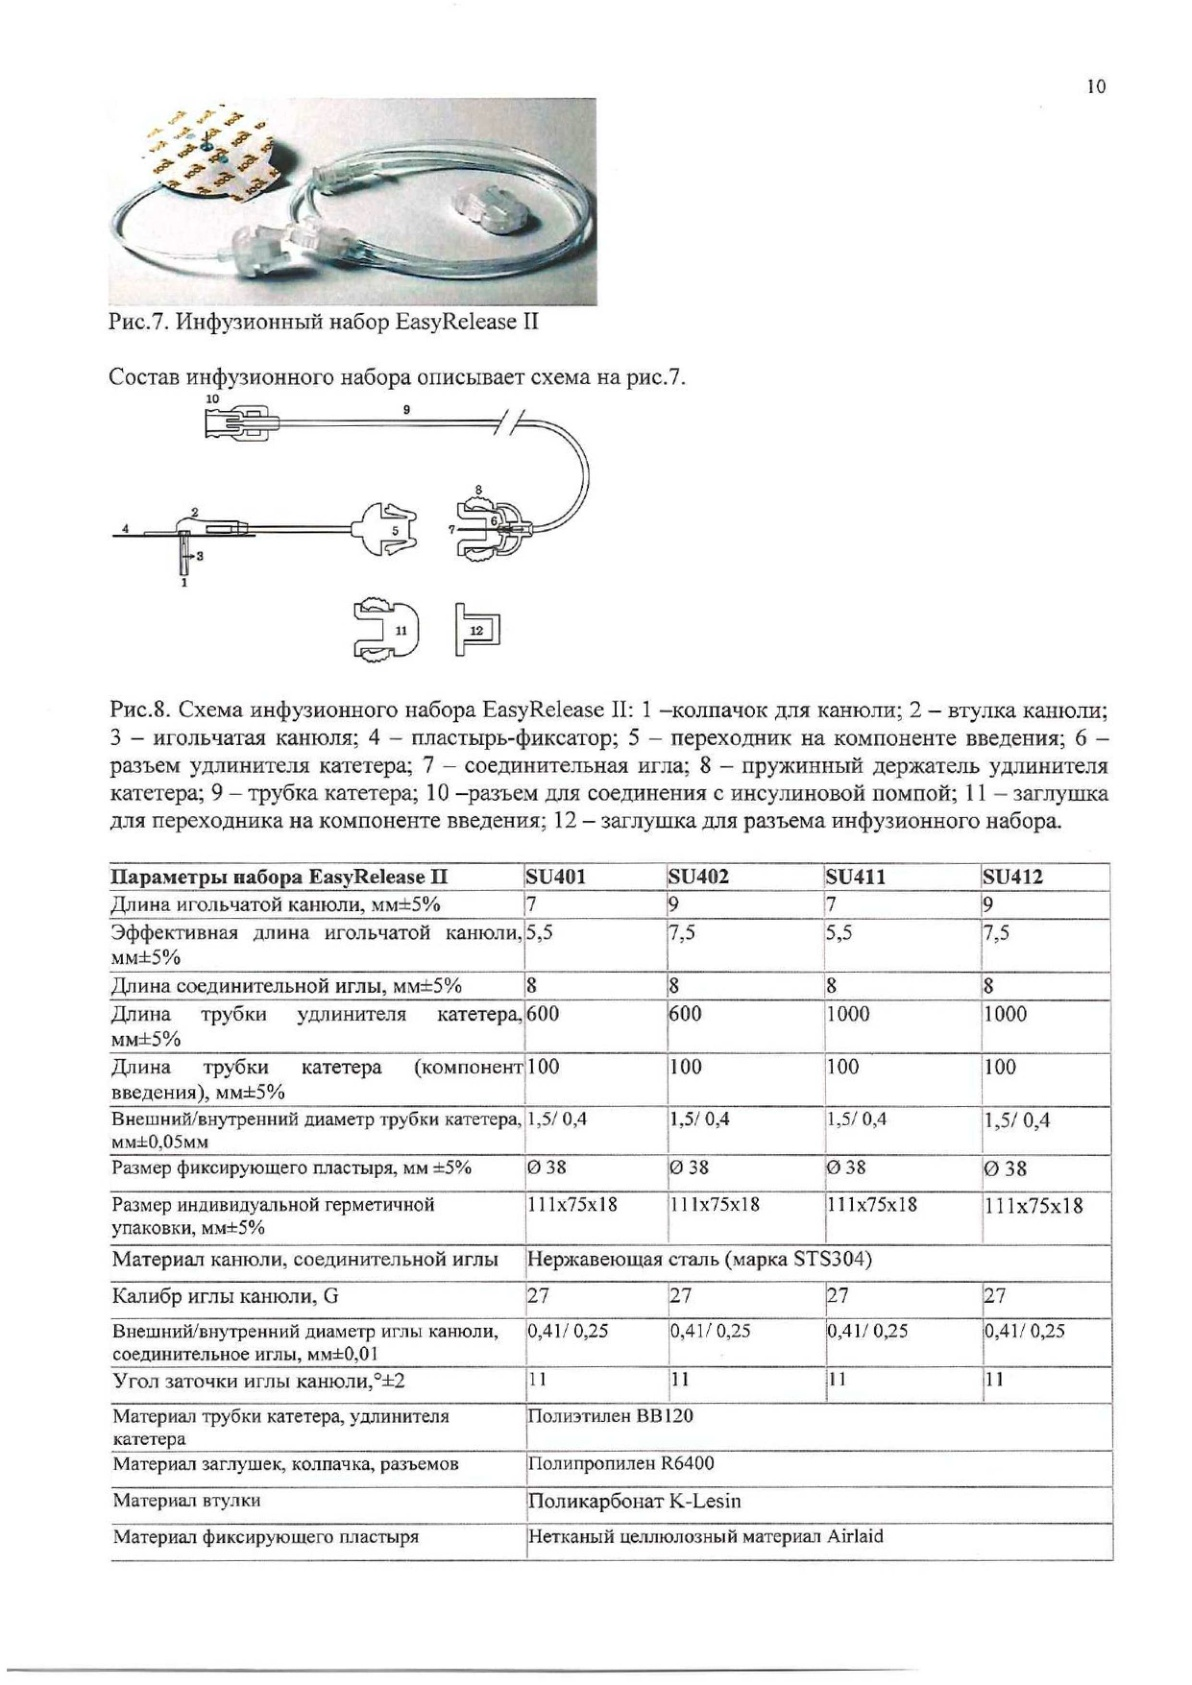partial_lined: (103, 855, 1116, 1569)
